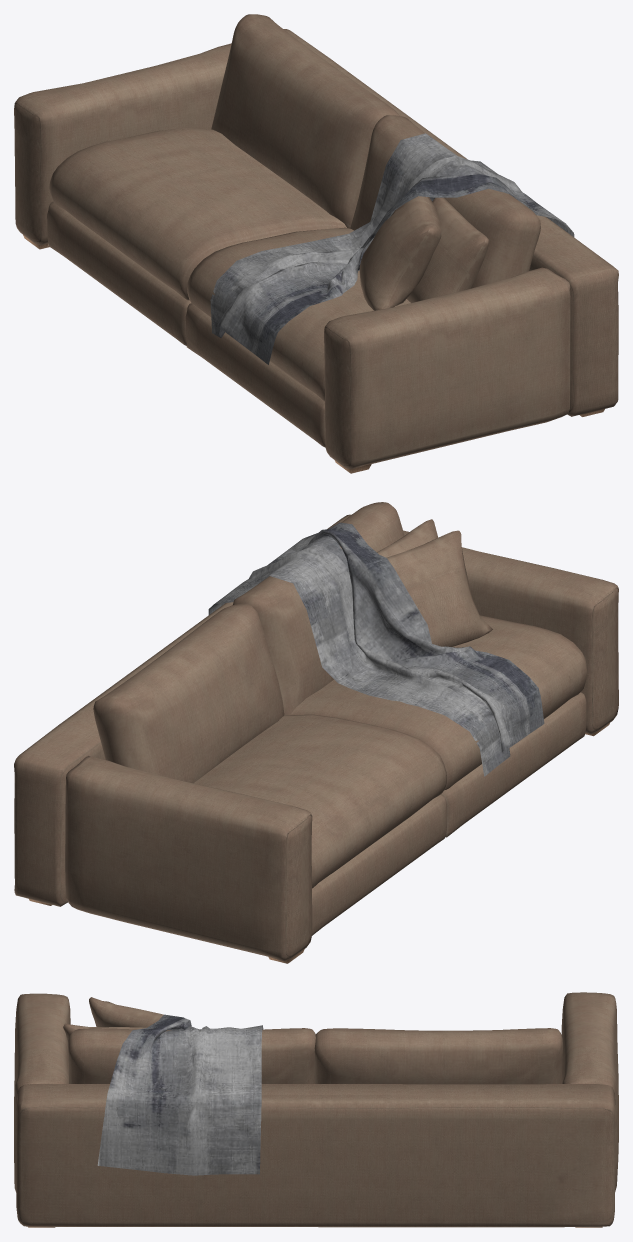
File: SM_Sofa_A3.fbx
3 views of the same model, one above another, from view 1: azimuth 30°, elevation 25°; view 2: azimuth 150°, elevation 25°; view 3: azimuth 270°, elevation 25° (orthographic). The views are drawn at different scales.
Visible parts, largest first — view 1: SM_Sofa_A3; view 2: SM_Sofa_A3; view 3: SM_Sofa_A3.
Part boxes in pixels (<box>): SM_Sofa_A3: <box>14,14,618,473</box>; SM_Sofa_A3: <box>14,502,618,963</box>; SM_Sofa_A3: <box>14,992,618,1227</box>.
Size of the model in its own units: 135 by 274 by 87.47.
Materials: 1 (1 with a texture image).
